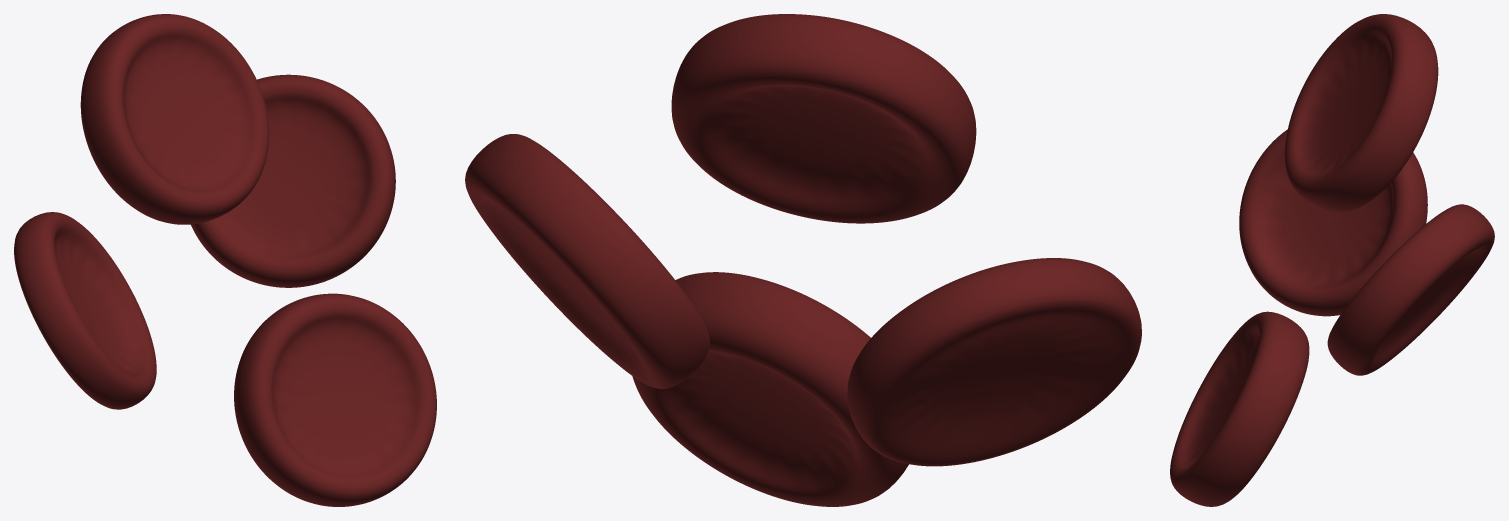
File: bloodcellanimation.fbx
The picture shows the model from 3 angles, left to right: view 1: azimuth 30°, elevation 25°; view 2: azimuth 150°, elevation 25°; view 3: azimuth 270°, elevation 25°; orthographic projection. The views are drawn at different scales.
Visible parts, largest first — view 1: Cylinder.004; view 2: Cylinder.004; view 3: Cylinder.004.
Boxes of the visible parts, <box> form: Cylinder.004: <box>14,14,436,506</box>; Cylinder.004: <box>465,14,1141,506</box>; Cylinder.004: <box>1170,14,1494,506</box>.
Bounding box in the file's own units: 426 × 436 × 304.
